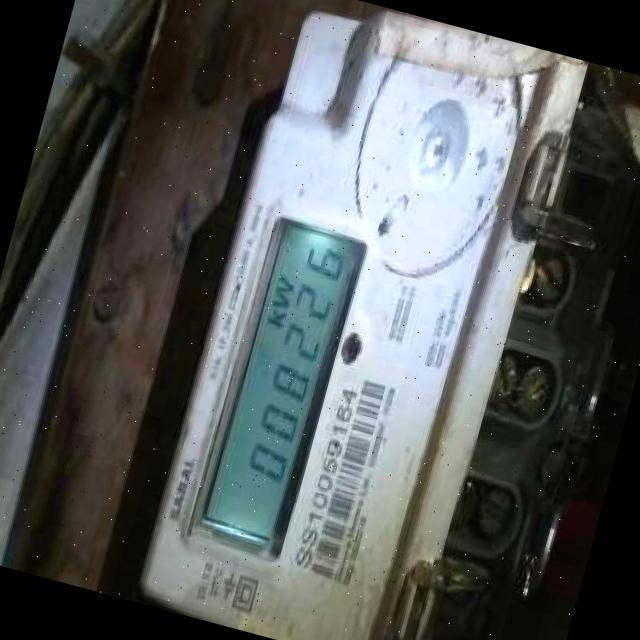LCD: (178, 199, 384, 566)
